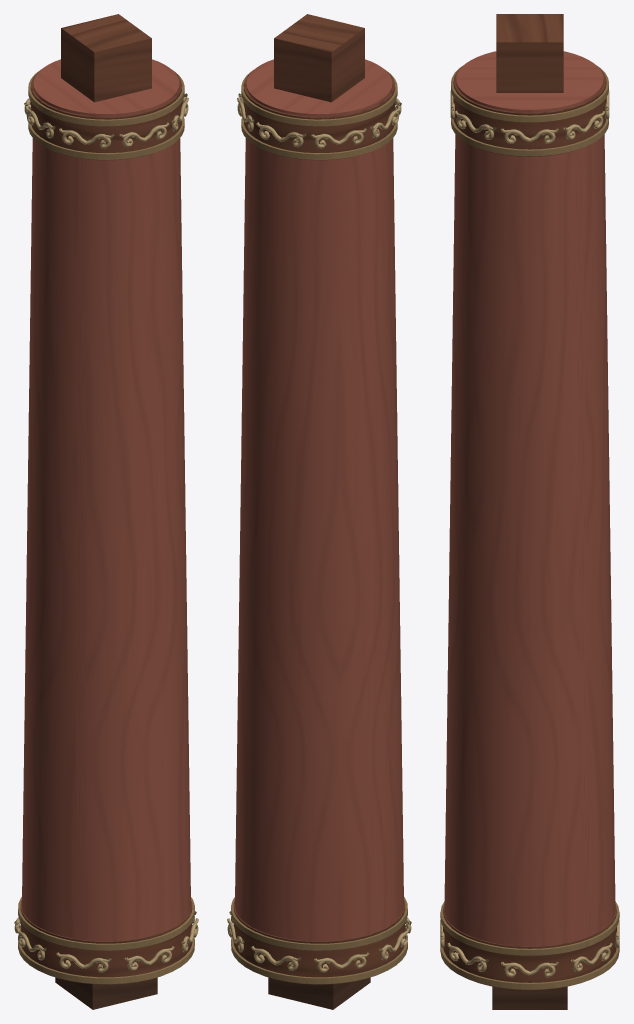
3 views of the same model, side by side, from view 1: azimuth 30°, elevation 25°; view 2: azimuth 150°, elevation 25°; view 3: azimuth 270°, elevation 25° (orthographic).
Parts seen in each view (by area): view 1: PostShaft_lacquer, PostShaft_heartwood, EndTenons_heartwood, PostShaft_bronze, PostShaft_gold, EndTenons_walnut; view 2: PostShaft_lacquer, PostShaft_heartwood, EndTenons_heartwood, PostShaft_bronze, PostShaft_gold, EndTenons_walnut; view 3: PostShaft_lacquer, PostShaft_heartwood, PostShaft_bronze, EndTenons_heartwood, PostShaft_gold, EndTenons_walnut.
Boxes of the visible parts, bbox=[...] form: PostShaft_lacquer: bbox=[22, 59, 190, 941]; PostShaft_heartwood: bbox=[20, 70, 192, 984]; EndTenons_heartwood: bbox=[61, 14, 151, 102]; PostShaft_bronze: bbox=[18, 69, 194, 984]; PostShaft_gold: bbox=[14, 93, 198, 972]; EndTenons_walnut: bbox=[55, 977, 157, 1009]; PostShaft_lacquer: bbox=[235, 59, 403, 941]; PostShaft_heartwood: bbox=[233, 70, 405, 984]; EndTenons_heartwood: bbox=[274, 14, 364, 102]; PostShaft_bronze: bbox=[231, 69, 407, 984]; PostShaft_gold: bbox=[227, 93, 411, 972]; EndTenons_walnut: bbox=[268, 977, 370, 1009]; PostShaft_lacquer: bbox=[444, 51, 615, 946]; PostShaft_heartwood: bbox=[443, 67, 616, 990]; PostShaft_bronze: bbox=[440, 65, 619, 989]; EndTenons_heartwood: bbox=[496, 14, 563, 92]; PostShaft_gold: bbox=[440, 91, 619, 977]; EndTenons_walnut: bbox=[492, 986, 567, 1009].
Size of the model in its own units: 0.642 by 3.81 by 0.642.
Materials: 5 (5 with a texture image).
